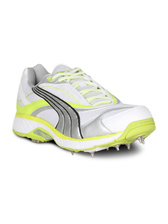shoes: (15, 64, 160, 156)
